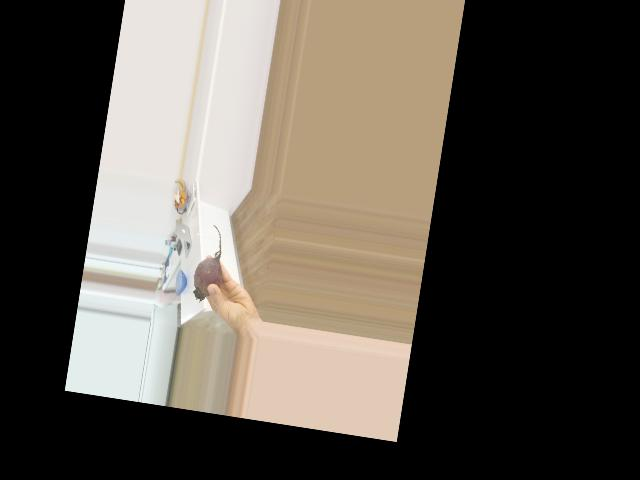beet: (190, 222, 229, 304)
